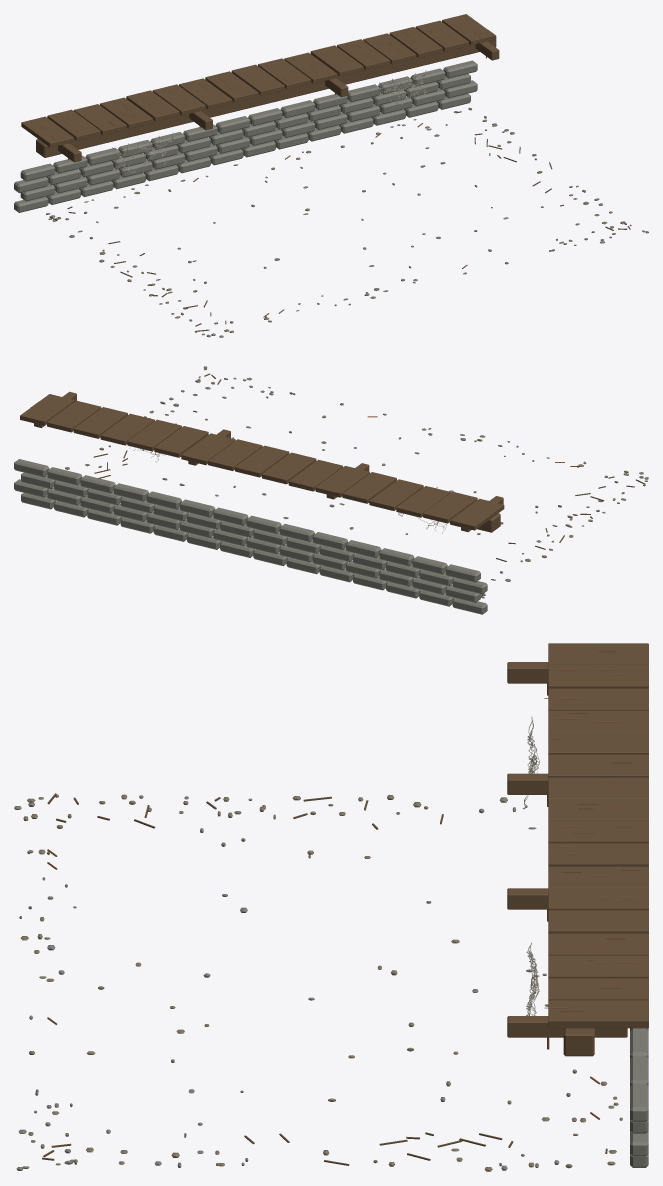
File: underfloor.glb
3 renders of one model, top to bottom at view 1: azimuth 30°, elevation 25°; view 2: azimuth 150°, elevation 25°; view 3: azimuth 270°, elevation 25°, orthographic. The views are drawn at different scales.
Visible parts, largest first — view 1: Poutre porteuse, Plancher au-dessus, Plancher au-dessus.011, Plancher au-dessus.004, Plancher au-dessus.007, Plancher au-dessus.008, Plancher au-dessus.001, Plancher au-dessus.014, Plancher au-dessus.016, Plancher au-dessus.003, Plancher au-dessus.015, Plancher au-dessus.009 (+8 smaller); view 2: Plancher au-dessus, Plancher au-dessus.011, Plancher au-dessus.004, Plancher au-dessus.007, Plancher au-dessus.001, Plancher au-dessus.008, Plancher au-dessus.003, Plancher au-dessus.014, Plancher au-dessus.016, Plancher au-dessus.012, Plancher au-dessus.015, Plancher au-dessus.009 (+22 smaller); view 3: Plancher au-dessus.016, Plancher au-dessus.001, Plancher au-dessus.009, Plancher au-dessus.011, Plancher au-dessus.012, Plancher au-dessus.008, Plancher au-dessus.014, Plancher au-dessus.004, Plancher au-dessus.005, Plancher au-dessus.015, Plancher au-dessus.013, Plancher au-dessus.002 (+10 smaller).
Boxes of the visible parts, x1=… form: Poutre porteuse: x1=36, y1=30, x2=496, y2=157; Plancher au-dessus: x1=21, y1=116, x2=74, y2=147; Plancher au-dessus.011: x1=310, y1=45, x2=363, y2=76; Plancher au-dessus.004: x1=126, y1=90, x2=179, y2=121; Plancher au-dessus.007: x1=205, y1=71, x2=258, y2=102; Plancher au-dessus.008: x1=231, y1=64, x2=284, y2=95; Plancher au-dessus.001: x1=47, y1=109, x2=100, y2=140; Plancher au-dessus.014: x1=389, y1=27, x2=442, y2=57; Plancher au-dessus.016: x1=442, y1=14, x2=495, y2=45; Plancher au-dessus.003: x1=100, y1=97, x2=153, y2=128; Plancher au-dessus.015: x1=415, y1=20, x2=468, y2=51; Plancher au-dessus.009: x1=258, y1=58, x2=311, y2=89; Plancher au-dessus: x1=450, y1=498, x2=504, y2=530; Plancher au-dessus.011: x1=154, y1=426, x2=208, y2=457; Plancher au-dessus.004: x1=342, y1=472, x2=396, y2=503; Plancher au-dessus.007: x1=262, y1=452, x2=316, y2=484; Plancher au-dessus.001: x1=423, y1=491, x2=477, y2=523; Plancher au-dessus.008: x1=235, y1=445, x2=289, y2=477; Plancher au-dessus.003: x1=369, y1=479, x2=423, y2=510; Plancher au-dessus.014: x1=73, y1=407, x2=127, y2=438; Plancher au-dessus.016: x1=20, y1=394, x2=74, y2=425; Plancher au-dessus.012: x1=127, y1=419, x2=181, y2=451; Plancher au-dessus.015: x1=47, y1=400, x2=101, y2=432; Plancher au-dessus.009: x1=208, y1=439, x2=262, y2=470; Plancher au-dessus.016: x1=548, y1=1000, x2=648, y2=1028; Plancher au-dessus.001: x1=548, y1=665, x2=648, y2=688; Plancher au-dessus.009: x1=548, y1=843, x2=648, y2=866; Plancher au-dessus.011: x1=548, y1=887, x2=648, y2=910; Plancher au-dessus.012: x1=548, y1=910, x2=648, y2=933; Plancher au-dessus.008: x1=548, y1=820, x2=648, y2=843; Plancher au-dessus.014: x1=548, y1=955, x2=648, y2=978; Plancher au-dessus.004: x1=548, y1=731, x2=648, y2=754; Plancher au-dessus.005: x1=548, y1=754, x2=648, y2=777; Plancher au-dessus.015: x1=548, y1=978, x2=648, y2=1000; Plancher au-dessus.013: x1=548, y1=933, x2=648, y2=955; Plancher au-dessus.002: x1=548, y1=688, x2=648, y2=710.
Size of the model in its own units: 23.79 by 4.34 by 16.38.
